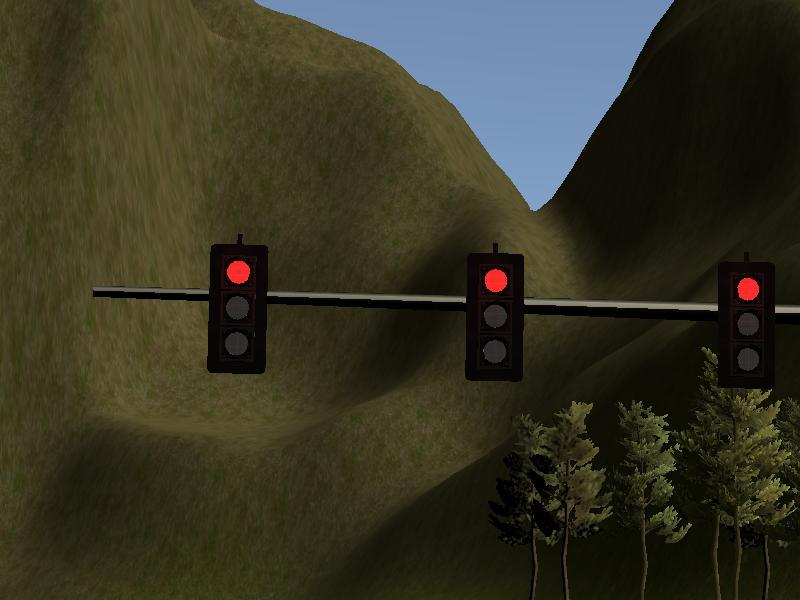Red: (720, 263, 777, 384), (213, 246, 266, 370), (469, 258, 524, 376)
